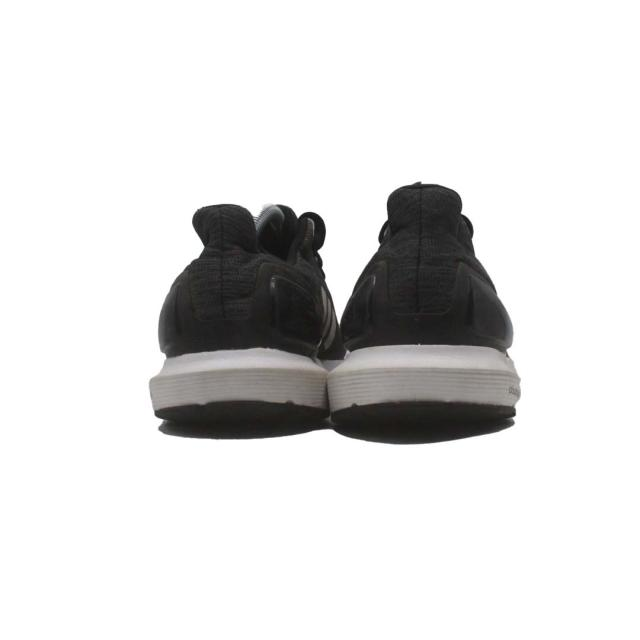heel: (344, 184, 512, 355), (156, 206, 315, 354)
midsole: (328, 345, 519, 423), (148, 350, 327, 421)
